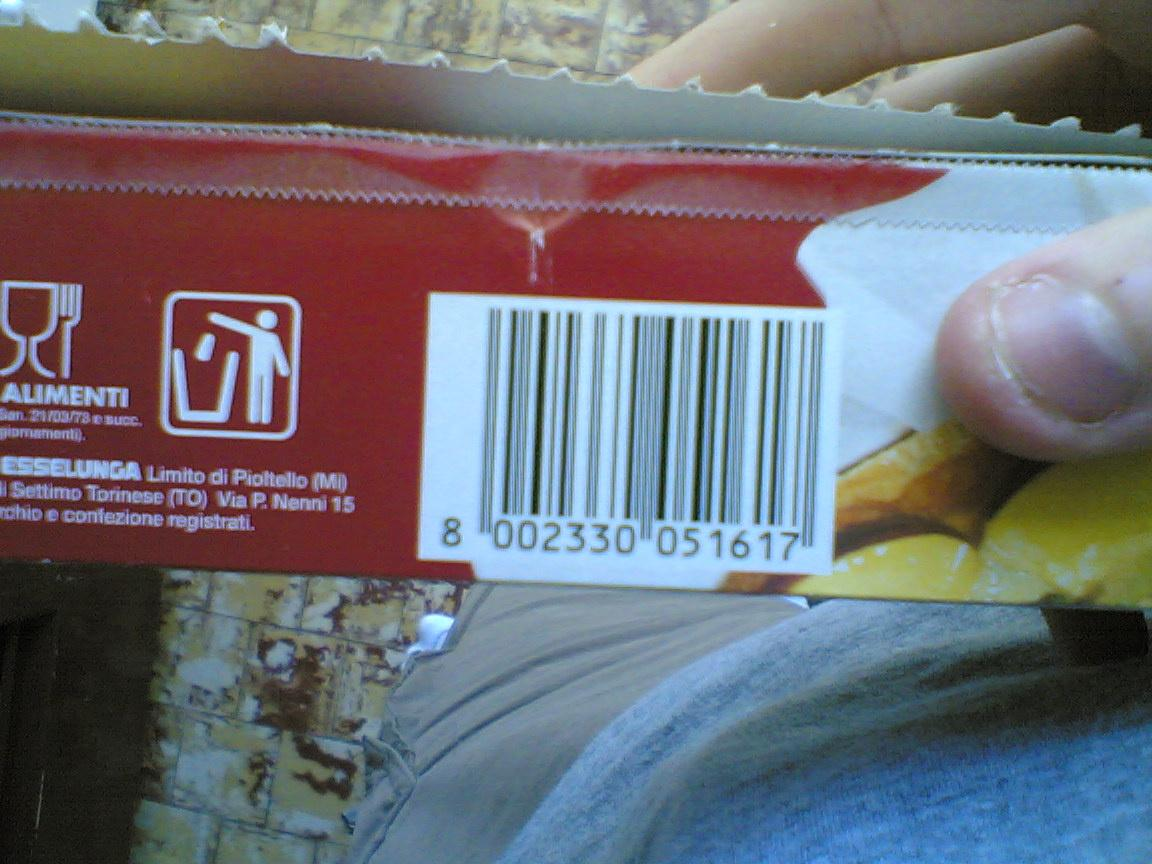Barcode: (415, 290, 835, 575)
